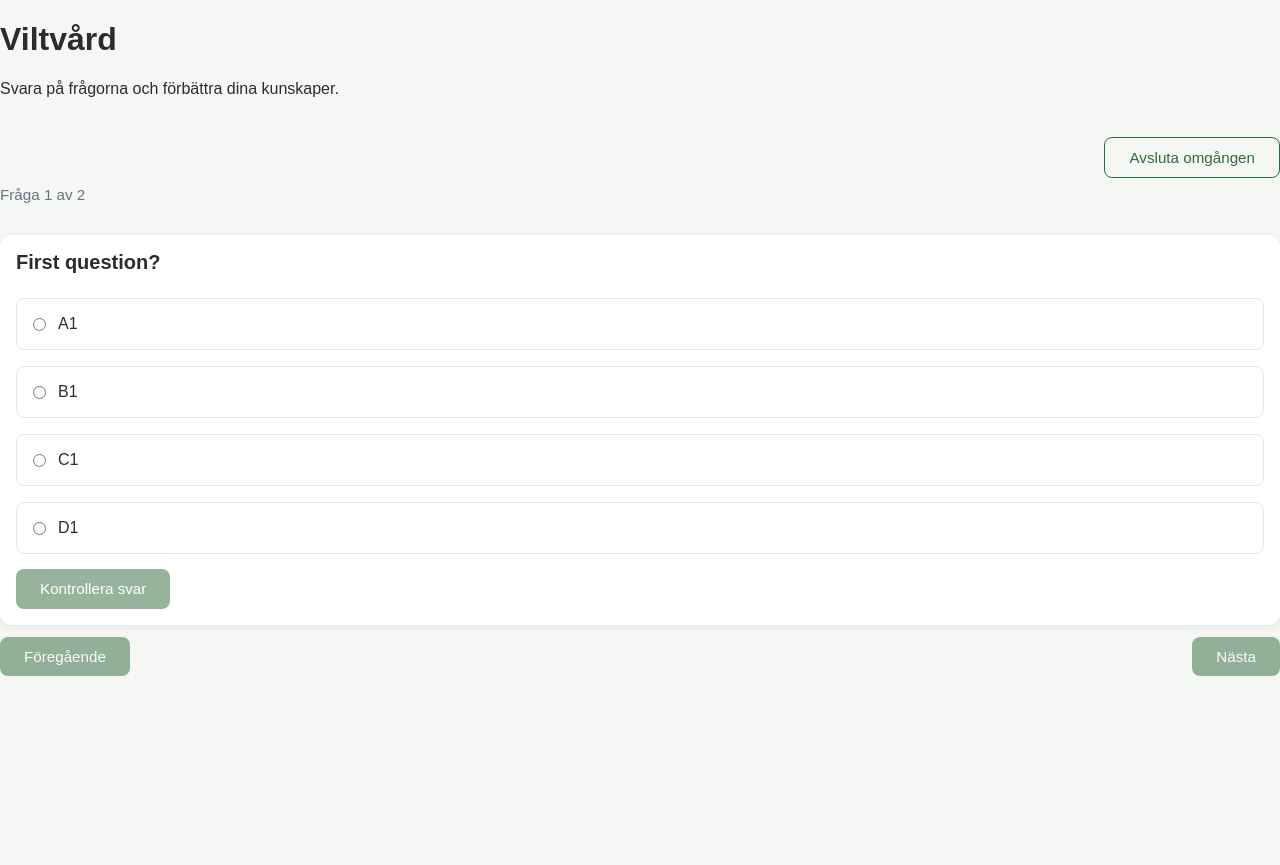
Test: PracticeQuestions › quitting after some answers shows how many were answered
Click the radio button labelled "B1".
click(40, 392)  # box [33,386,46,399]
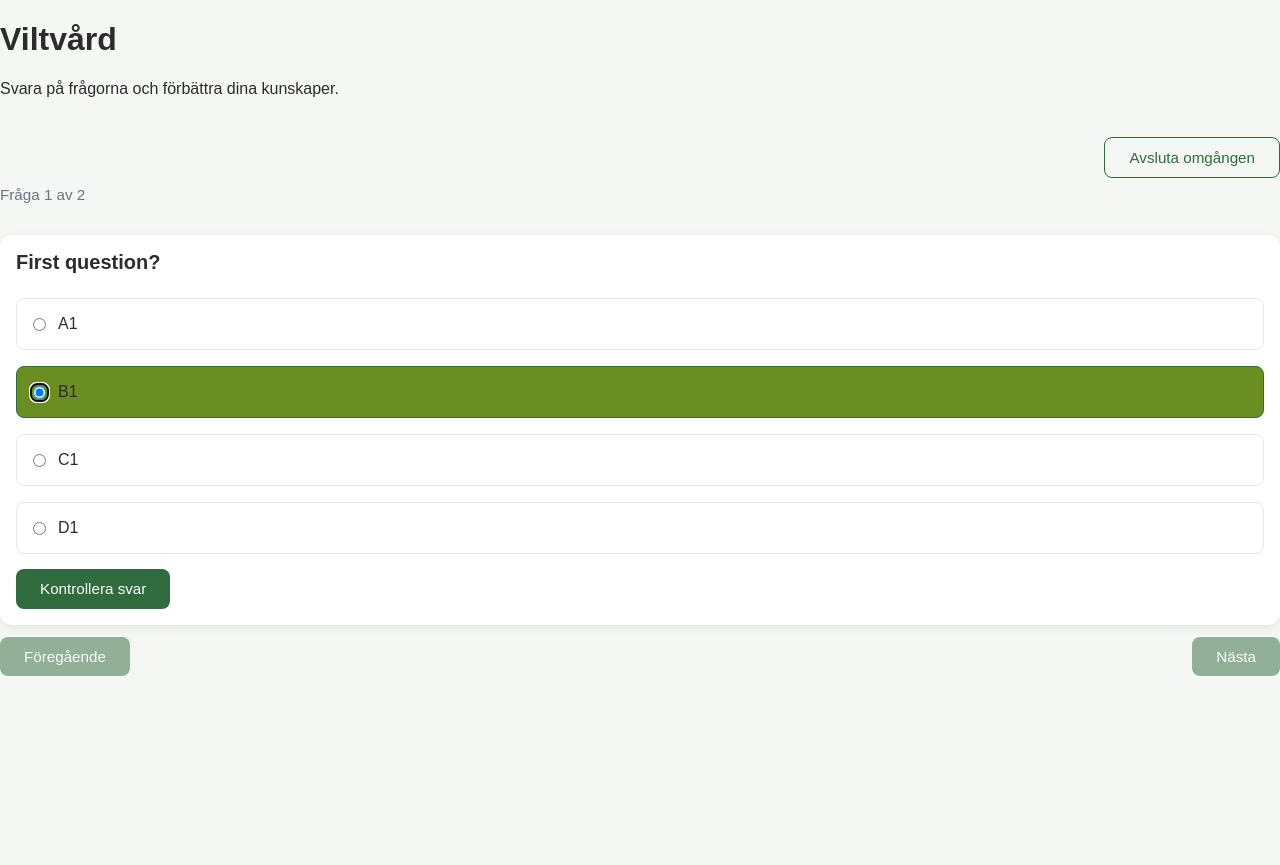
Click the button "Kontrollera svar".
click(93, 589)  # box [16,569,170,609]
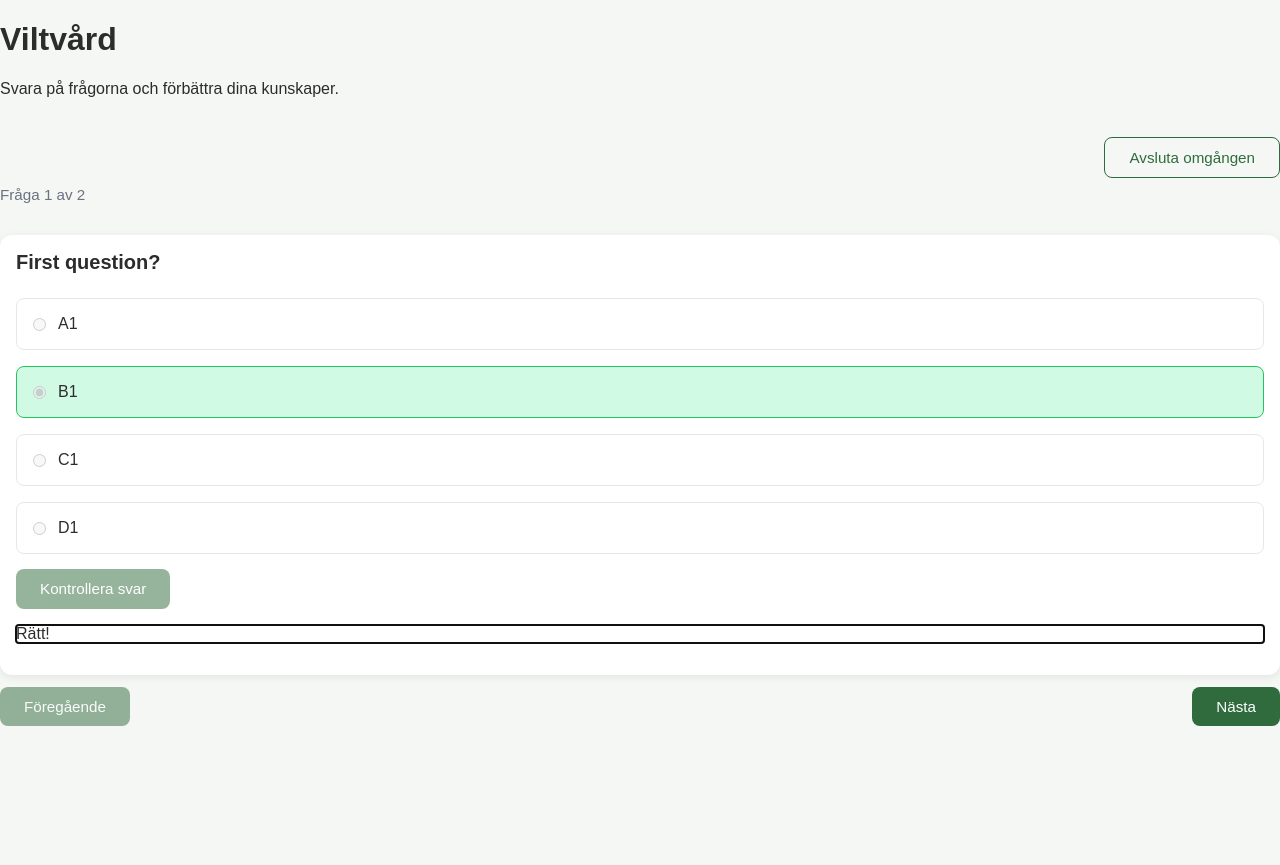
Click the button "Avsluta omgången".
click(1192, 158)  # box [1104,137,1279,178]
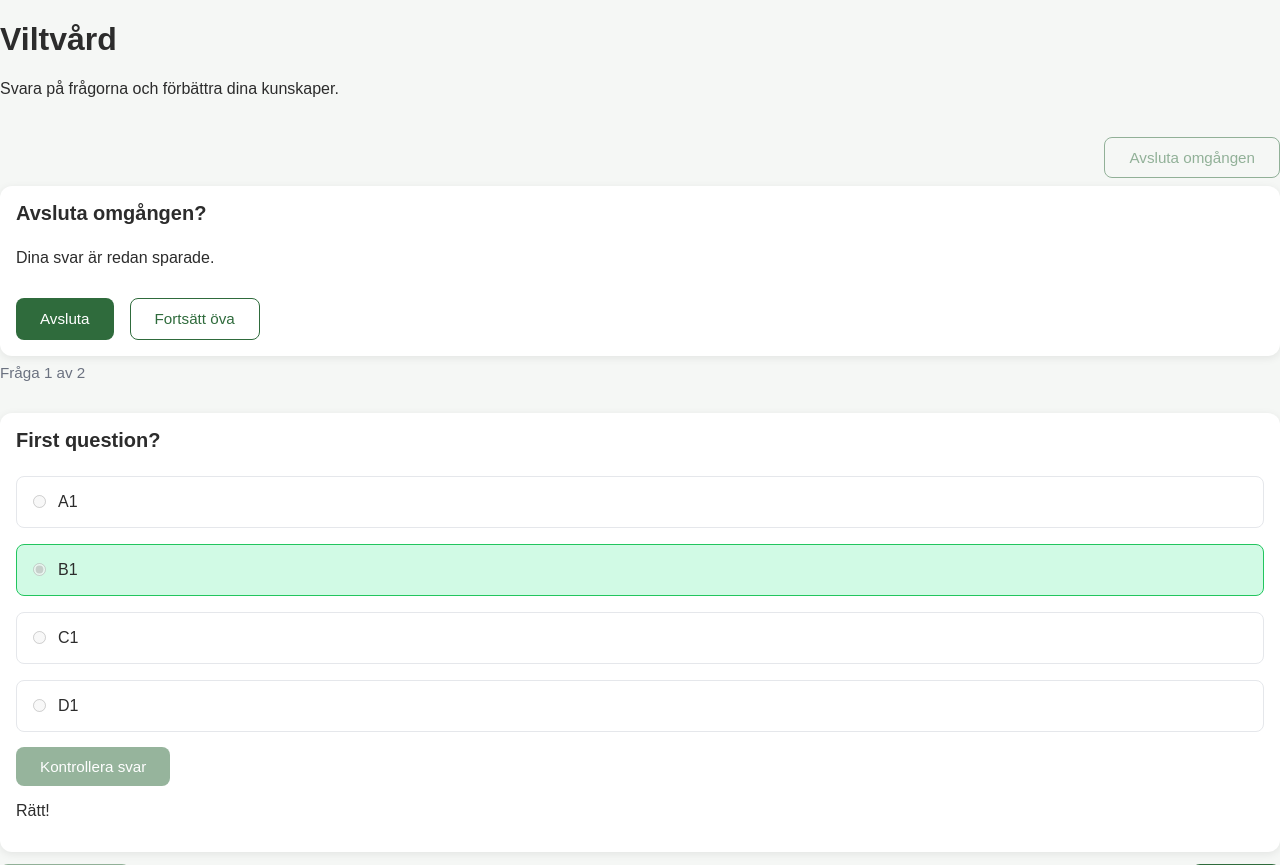
Click the button "Avsluta".
click(65, 319)  # box [16,298,114,340]
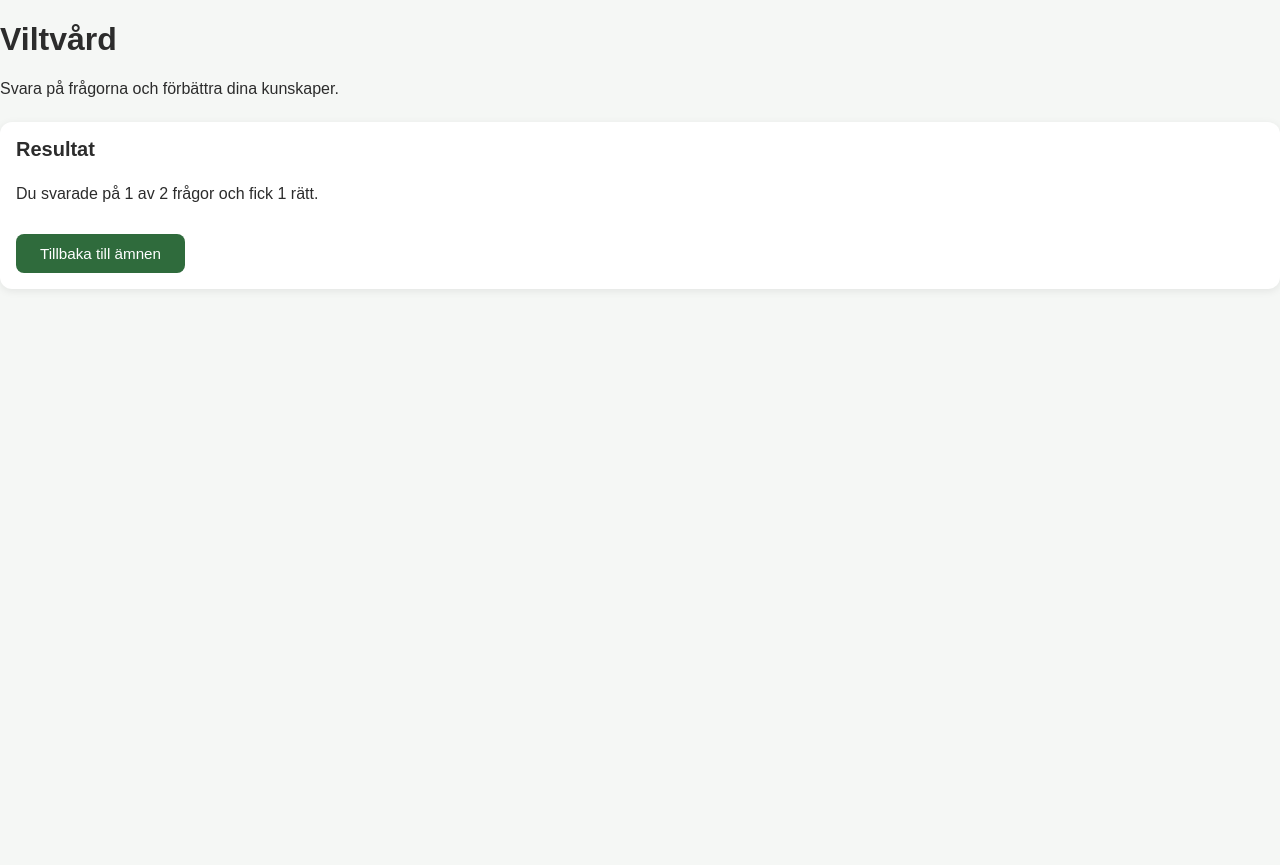
Now the text "Du svarade på 1 av 2 frågor och fick 1 rätt." is shown, box [16,185,318,202]
